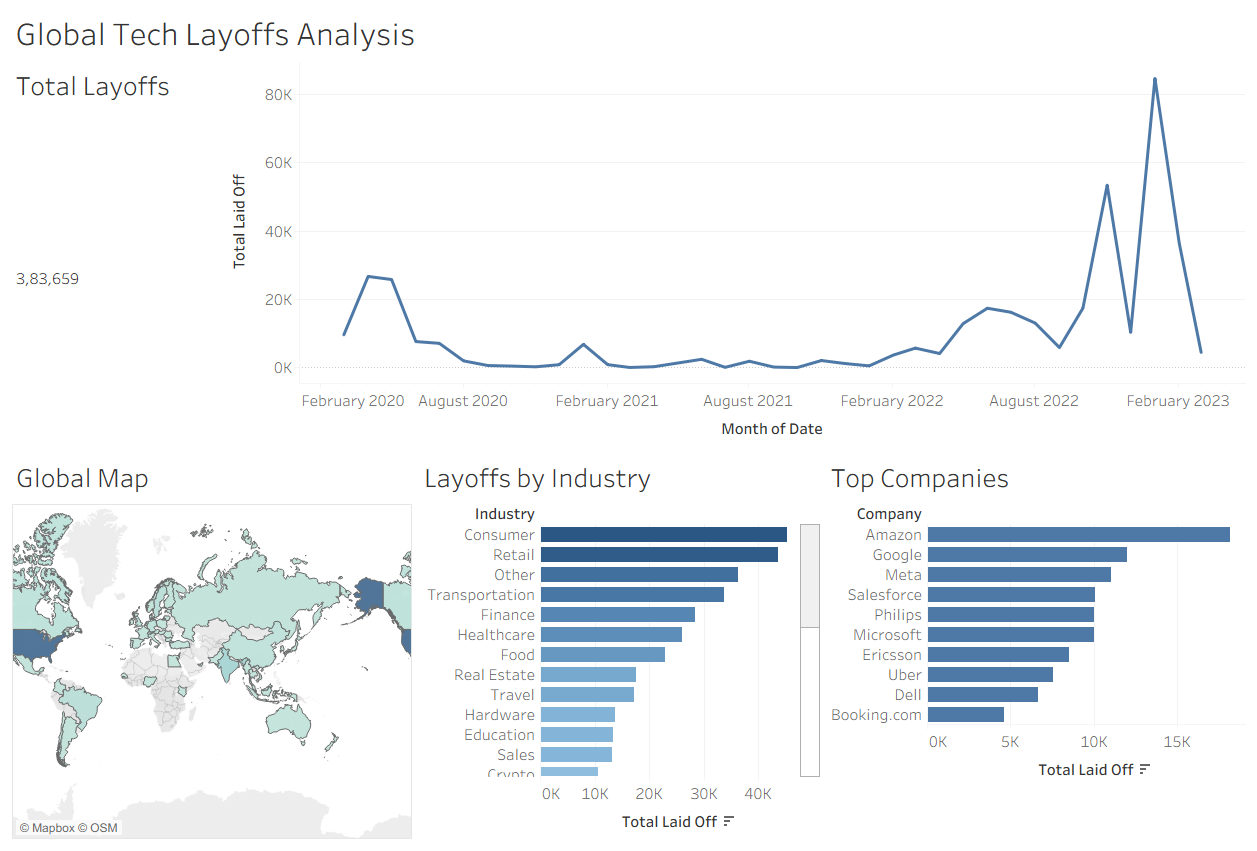

What the dashboard file says about the page in this screenshot:
{"tool":"tableau","page":{"name":"Dashboard 1","canvas":[1000,1000],"units":"permille","ordinal":0},"visuals":[{"type":"title","box":[6.4,9.4,987.3,58.8]},{"type":"worksheet","title":"Total Layoffs","mark":"Automatic","box":[6.4,68.2,166.1,460.6]},{"type":"worksheet","title":"Layoffs Timeline","mark":"Automatic","rows":["total_laid_off"],"cols":["date"],"box":[172.4,68.2,821.2,460.6]},{"type":"worksheet","title":"Global Map","mark":"Automatic","box":[6.4,528.8,324.3,461.8]},{"type":"worksheet","title":"Layoffs by Industry","mark":"Automatic","rows":["industry"],"cols":["total_laid_off"],"box":[330.6,528.8,324.3,461.8]},{"type":"worksheet","title":"Top Companies","mark":"Automatic","rows":["company"],"cols":["total_laid_off"],"box":[655,528.8,338.7,461.8]}]}

Visuals, with their boxes on the dashboard's canvas, which has no fixed pixel size, in thousandths of its width and height (x1, y1, x2, y2). These are canvas units, not pixel positions in the 1257x851 screenshot, which may show the page scaled, cropped or inside an application window:
title: (left=6, top=9, right=994, bottom=68)
"Total Layoffs" worksheet: (left=6, top=68, right=172, bottom=529)
"Layoffs Timeline" worksheet: (left=172, top=68, right=994, bottom=529)
"Global Map" worksheet: (left=6, top=529, right=331, bottom=991)
"Layoffs by Industry" worksheet: (left=331, top=529, right=655, bottom=991)
"Top Companies" worksheet: (left=655, top=529, right=994, bottom=991)
